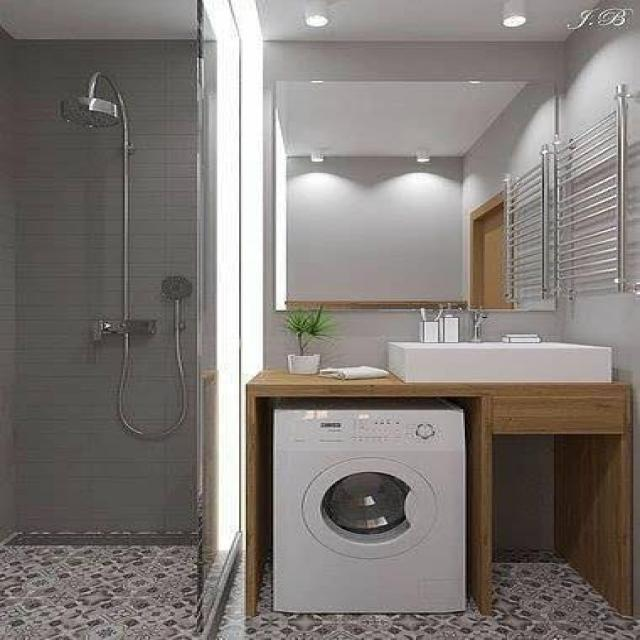tap: (466, 305, 500, 344)
wash basin: (398, 328, 608, 382)
washing machine: (266, 405, 472, 621)
